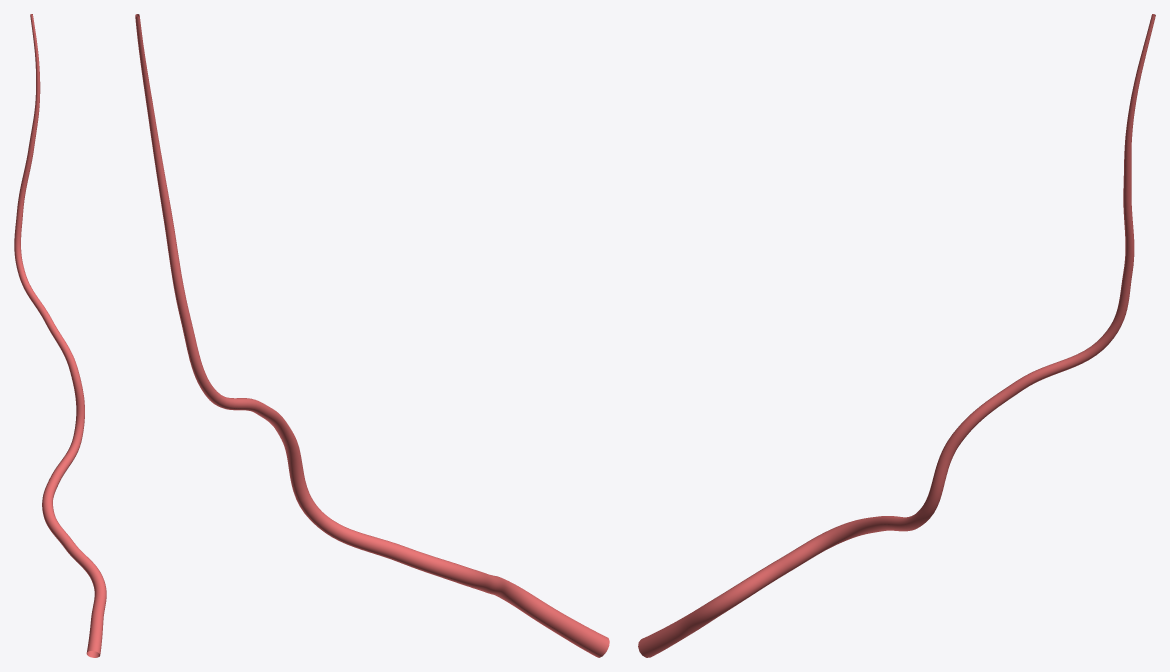
Rendered from Deep_cervical_artery.r_BezierCurve.045.glb.
The picture shows the model from 3 angles, left to right: view 1: azimuth 30°, elevation 25°; view 2: azimuth 150°, elevation 25°; view 3: azimuth 270°, elevation 25°; orthographic projection. The views are drawn at different scales.
Visible parts, largest first — view 1: Deep_cervical_artery.r_BezierCurve.045; view 2: Deep_cervical_artery.r_BezierCurve.045; view 3: Deep_cervical_artery.r_BezierCurve.045.
Part boxes in pixels (x1,y1,x2,y2): Deep_cervical_artery.r_BezierCurve.045: (14,14,106,657); Deep_cervical_artery.r_BezierCurve.045: (135,14,609,657); Deep_cervical_artery.r_BezierCurve.045: (638,14,1155,657).
Size of the model in its own units: 0.0195 by 0.0773 by 0.0503.
